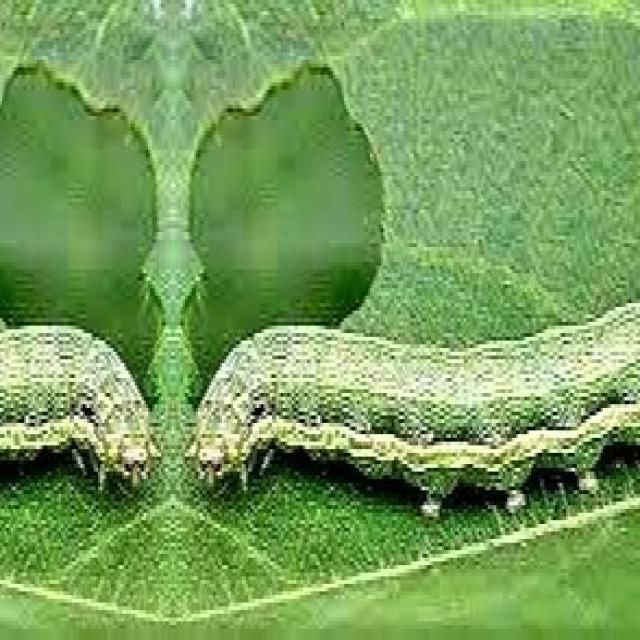Armyworm: (184, 306, 640, 567), (1, 323, 164, 484)
